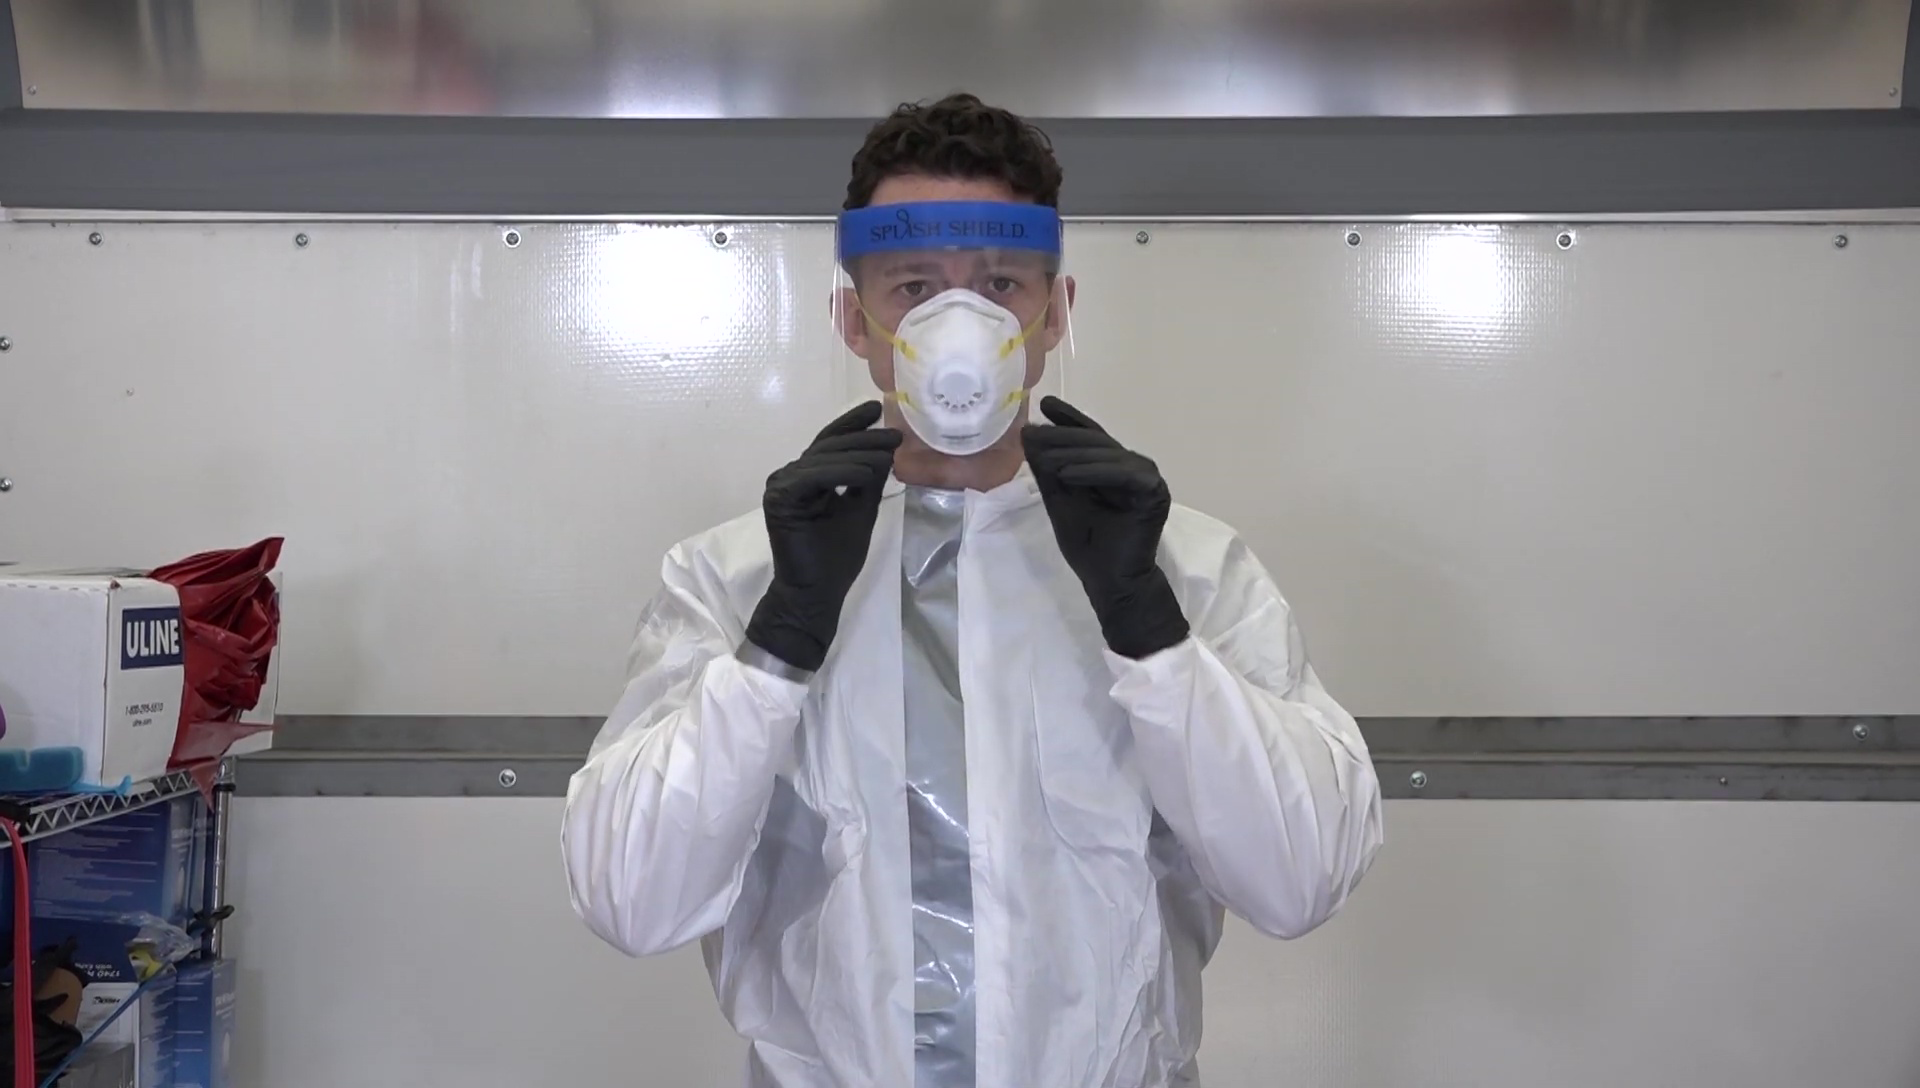Coverall: (559, 486, 1382, 1086)
Face_Shield: (825, 200, 1085, 491)
Gloves: (1020, 396, 1189, 657), (747, 400, 905, 671)
with_mask: (886, 270, 1036, 457)
